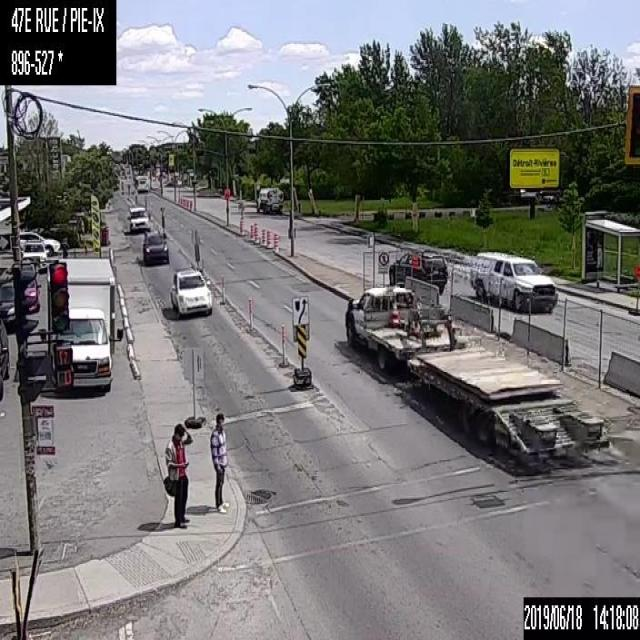bus: (134, 175, 148, 192)
construction: (279, 322, 286, 368), (247, 297, 253, 332), (220, 274, 224, 303), (254, 222, 259, 241), (261, 228, 266, 244), (249, 224, 254, 240), (273, 232, 278, 248), (240, 217, 244, 233), (267, 230, 271, 246)
pedestrian: (163, 423, 191, 529), (208, 412, 228, 513)
vehicle: (344, 283, 610, 464), (51, 256, 116, 389), (468, 250, 557, 314), (389, 248, 447, 294), (168, 265, 212, 319), (10, 264, 41, 314), (18, 229, 60, 256), (142, 230, 167, 262), (20, 242, 49, 269), (0, 281, 15, 333), (255, 186, 283, 213), (0, 316, 8, 401), (128, 205, 150, 231)
